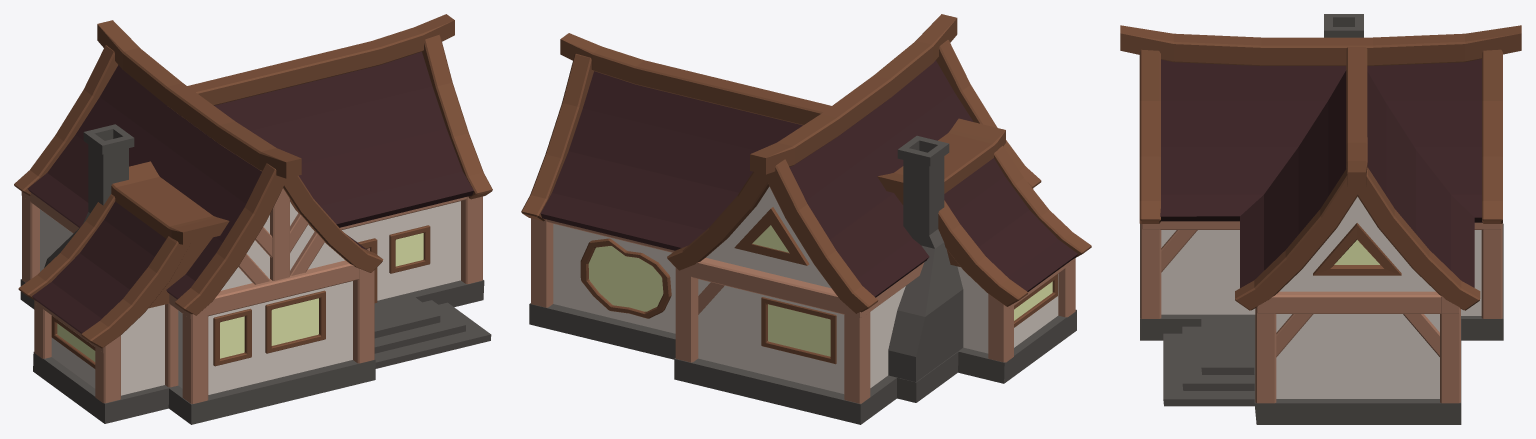
The model's file is witch_house_interior.fbx.
3 views of the same model, side by side, from view 1: azimuth 30°, elevation 25°; view 2: azimuth 150°, elevation 25°; view 3: azimuth 270°, elevation 25° (orthographic). The views are drawn at different scales.
Parts seen in each view (by area): view 1: acoperis.004, acoperis.1, .baza, acoperis.005, Plane, acop.muchie.2, acop.muchie.1, Plane.001, .baza.001, acop.muchie.003, acop.barna.1, acop.barna.007 (+31 smaller); view 2: acoperis.003, acoperis.1, .baza, semineu, acoperis.005, Plane.003, acop.muchie.2, acop.muchie.1, Plane.002, acop.barna.3, acop.barna.006, inalt.muchie.006 (+21 smaller); view 3: acoperis.002, Plane.007, acop.muchie.2, acoperis.004, acoperis.003, .baza, .baza.001, Plane.011, Plane.006, acop.barna.006, acop.barna.005, inalt.muchie.005 (+15 smaller).
Boxes of the visible parts, bbox=[...] form: acoperis.004: bbox=[214, 51, 473, 227]; acoperis.1: bbox=[27, 65, 262, 299]; .baza: bbox=[20, 279, 484, 424]; acoperis.005: bbox=[32, 201, 166, 333]; Plane: bbox=[208, 281, 352, 394]; acop.muchie.2: bbox=[97, 20, 301, 178]; acop.muchie.1: bbox=[187, 14, 454, 105]; Plane.001: bbox=[342, 201, 460, 300]; .baza.001: bbox=[374, 297, 491, 368]; acop.muchie.003: bbox=[111, 161, 229, 244]; acop.barna.1: bbox=[175, 163, 283, 315]; acop.barna.007: bbox=[81, 236, 190, 348]; acoperis.003: bbox=[540, 71, 802, 250]; acoperis.1: bbox=[789, 60, 973, 297]; .baza: bbox=[529, 303, 1076, 424]; semineu: bbox=[888, 135, 963, 381]; acoperis.005: bbox=[944, 158, 1077, 291]; Plane.003: bbox=[698, 279, 844, 393]; acop.muchie.2: bbox=[750, 14, 957, 174]; acop.muchie.1: bbox=[560, 33, 831, 125]; Plane.002: bbox=[553, 224, 675, 333]; acop.barna.3: bbox=[764, 159, 878, 313]; acop.barna.006: bbox=[521, 54, 593, 221]; inalt.muchie.006: bbox=[691, 258, 861, 317]; acoperis.002: bbox=[1160, 59, 1482, 222]; Plane.007: bbox=[1276, 314, 1439, 398]; acop.muchie.2: bbox=[1120, 25, 1521, 65]; acoperis.004: bbox=[1240, 70, 1346, 287]; acoperis.003: bbox=[1367, 71, 1474, 287]; .baza: bbox=[1140, 223, 1503, 424]; .baza.001: bbox=[1163, 319, 1254, 406]; Plane.011: bbox=[1161, 230, 1255, 314]; Plane.006: bbox=[1279, 196, 1435, 291]; acop.barna.006: bbox=[1354, 167, 1480, 310]; acop.barna.005: bbox=[1235, 169, 1357, 310]; inalt.muchie.005: bbox=[1257, 291, 1458, 313].
Bounding box in the file's own units: 1354 × 730 × 1006.
